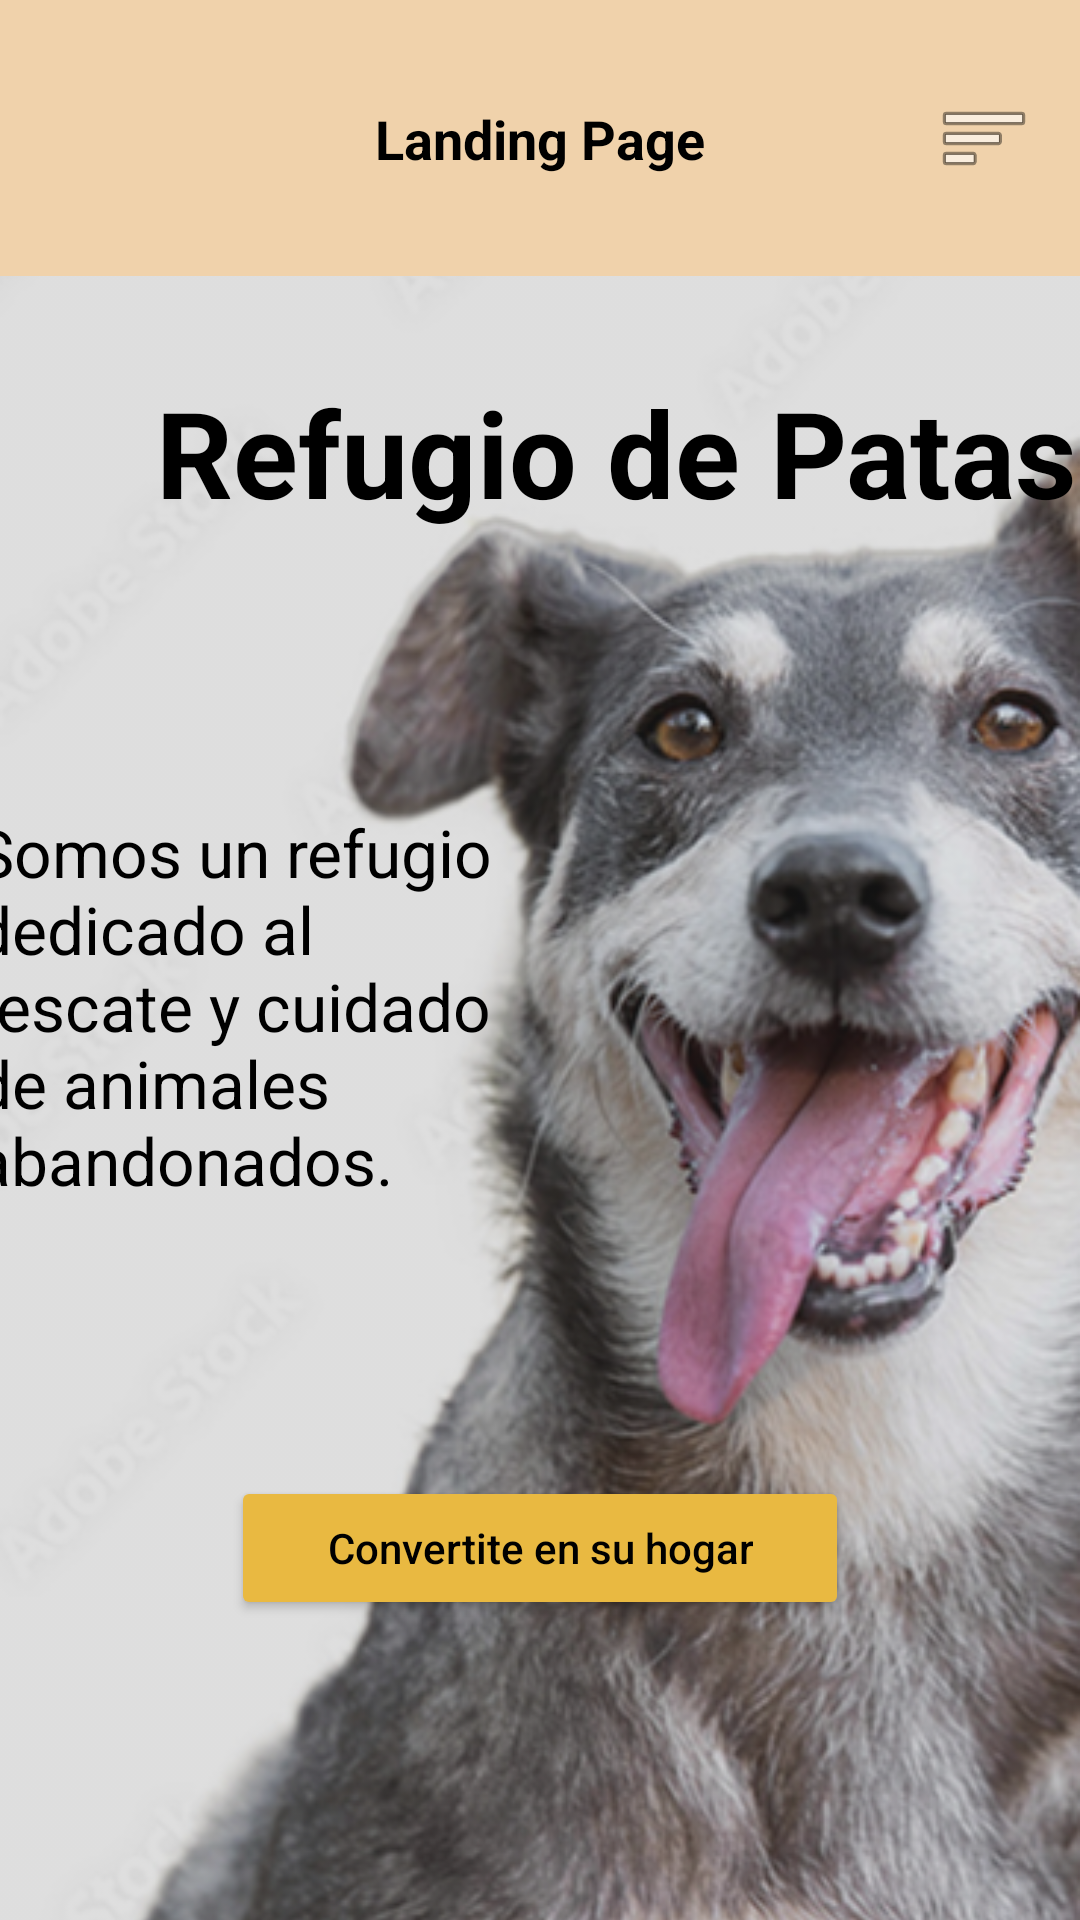

Point at icon controls on the screen. Image size 1080 x 1920, points as (x,y).
Menu: (984,138)
